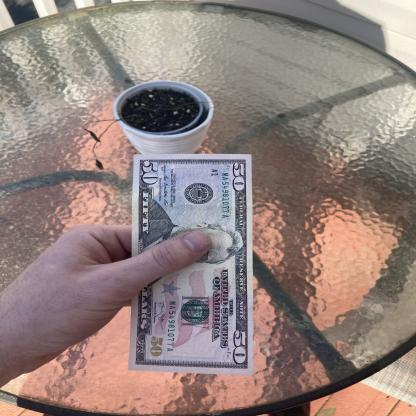fifty-front: (133, 154, 253, 372)
